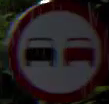No overtake: (6, 2, 103, 100)
